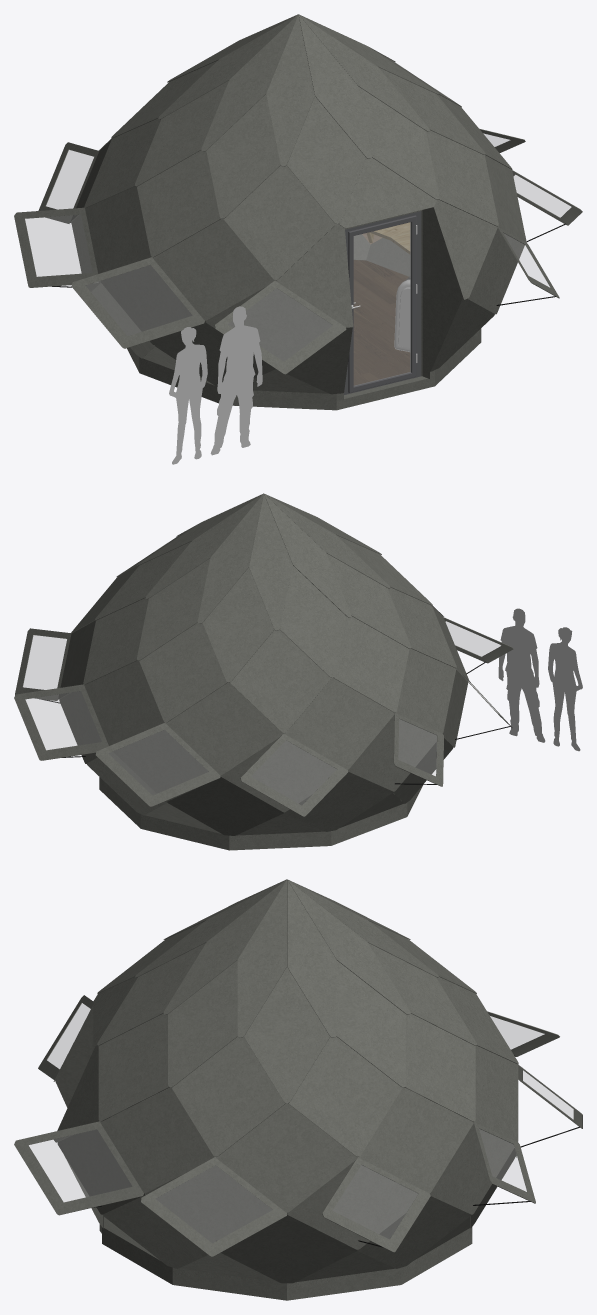
The model's file is zomes-pod2.glb.
3 renders of one model, top to bottom at view 1: azimuth 30°, elevation 25°; view 2: azimuth 150°, elevation 25°; view 3: azimuth 270°, elevation 25°, orthographic. The views are drawn at different scales.
Parts seen in each view (by area): view 1: entry-L1-center, door, man, window-glass-C-2.001, panel-L3-D-1, panel-L3-E-1, window-glass-C-1.001, window-glass-C-3.001, panel-L3-F-1, panel-L3-F-2, panel-L3-E-2, panel-L3-F-10 (+42 smaller); view 2: entry-L1-center, window-glass-C-5.001, man, window-glass-C-6.001, window-glass-C-4.001, panel-L3-D-4, panel-L3-D-3, panel-L3-E-4, panel-L3-D-5, panel-L3-F-5, panel-L3-E-5, panel-L3-F-4 (+46 smaller); view 3: entry-L1-center, window-glass-C-8.001, panel-L3-D-7, window-glass-C-9.001, panel-L3-D-8, window-glass-C-7.001, panel-L3-E-8, panel-L3-F-8, panel-L3-E-7, panel-L3-D-6, panel-L3-F-9, panel-L3-C-7 (+45 smaller).
Boxes of the visible parts, left/top/right/bottom form: entry-L1-center: left=91, top=157, right=497, bottom=400; door: left=344, top=211, right=421, bottom=394; man: left=169, top=306, right=262, bottom=464; window-glass-C-2.001: left=71, top=257, right=204, bottom=348; panel-L3-D-1: left=152, top=219, right=271, bottom=320; panel-L3-E-1: left=225, top=165, right=335, bottom=279; window-glass-C-1.001: left=215, top=280, right=346, bottom=374; window-glass-C-3.001: left=14, top=207, right=99, bottom=287; panel-L3-F-1: left=287, top=101, right=366, bottom=223; panel-L3-F-2: left=206, top=98, right=279, bottom=218; panel-L3-E-2: left=137, top=152, right=220, bottom=257; panel-L3-F-10: left=360, top=90, right=438, bottom=199; entry-L1-center: left=87, top=738, right=453, bottom=841; window-glass-C-5.001: left=95, top=722, right=220, bottom=806; man: left=498, top=608, right=582, bottom=751; window-glass-C-6.001: left=14, top=684, right=108, bottom=760; window-glass-C-4.001: left=240, top=733, right=348, bottom=816; panel-L3-D-4: left=166, top=683, right=281, bottom=775; panel-L3-D-3: left=285, top=678, right=393, bottom=767; panel-L3-E-4: left=231, top=630, right=330, bottom=732; panel-L3-D-5: left=84, top=661, right=162, bottom=745; panel-L3-F-5: left=203, top=571, right=273, bottom=682; panel-L3-E-5: left=140, top=623, right=226, bottom=721; panel-L3-F-4: left=280, top=569, right=346, bottom=677; entry-L1-center: left=53, top=977, right=516, bottom=1290; window-glass-C-8.001: left=141, top=1157, right=286, bottom=1256; panel-L3-D-7: left=216, top=1103, right=357, bottom=1212; window-glass-C-9.001: left=14, top=1121, right=144, bottom=1215; panel-L3-D-8: left=100, top=1087, right=209, bottom=1192; window-glass-C-7.001: left=322, top=1157, right=430, bottom=1252; panel-L3-E-8: left=171, top=1037, right=284, bottom=1156; panel-L3-F-8: left=244, top=972, right=329, bottom=1103; panel-L3-E-7: left=289, top=1037, right=401, bottom=1156; panel-L3-D-6: left=358, top=1088, right=473, bottom=1192; panel-L3-F-9: left=168, top=964, right=237, bottom=1087; panel-L3-C-7: left=287, top=1163, right=417, bottom=1248.
Bounding box in the file's own units: 6.29 × 3.93 × 5.98.
Materials: 19 (7 with a texture image).
